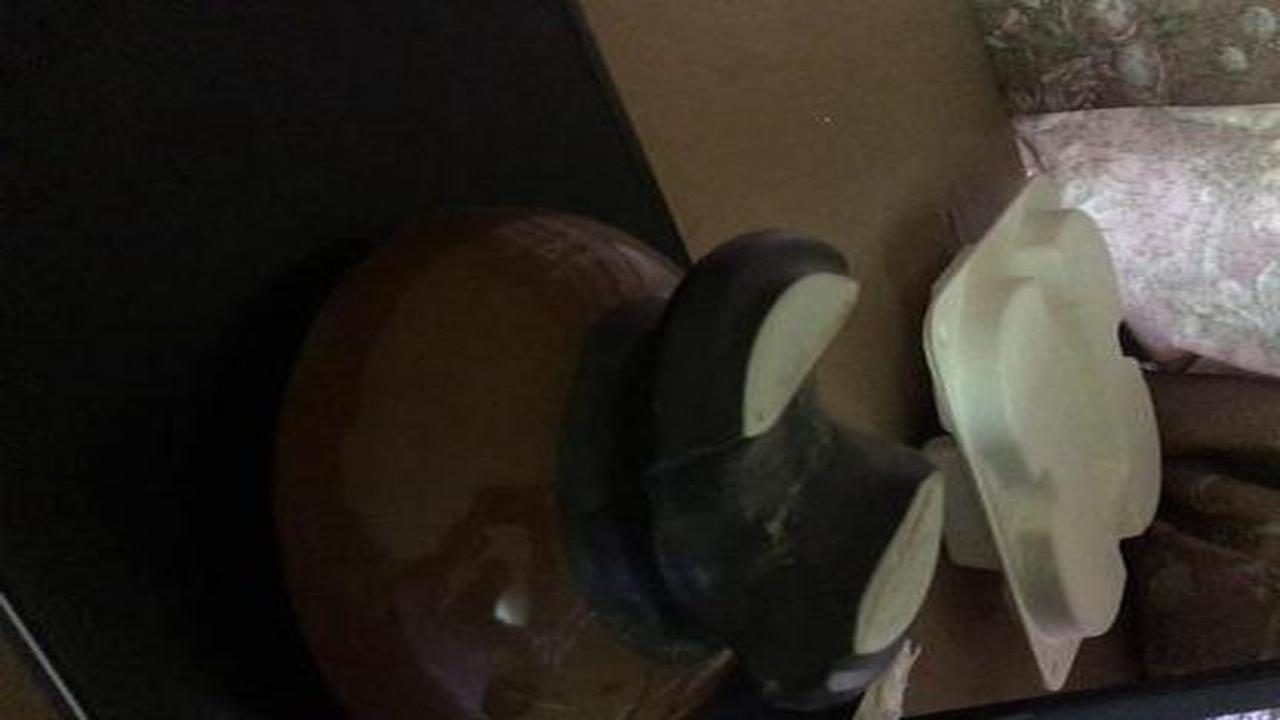insulator_pin: (247, 182, 967, 720)
